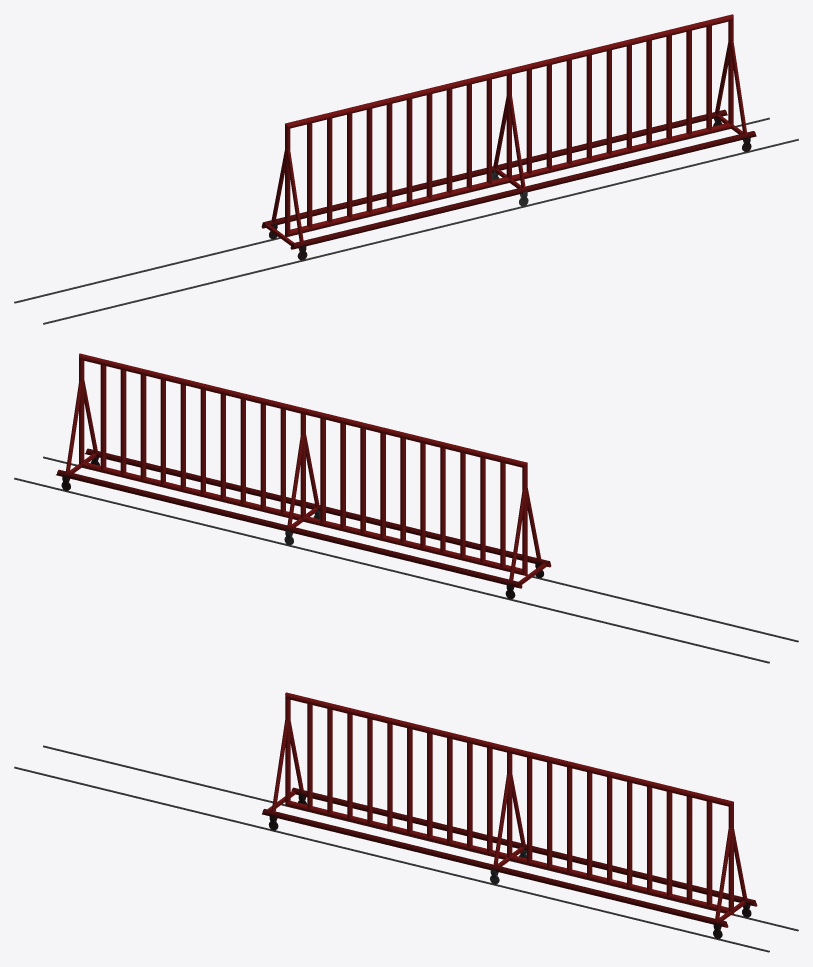
The model's file is maingate.fbx.
The picture shows the model from 3 angles, top to bottom: view 1: azimuth 30°, elevation 25°; view 2: azimuth 150°, elevation 25°; view 3: azimuth 330°, elevation 25°; orthographic projection.
Visible parts, largest first — view 1: pCylinder26, pCylinder1, pCylinder2, pCylinder27, pCube15, pCube14, pCylinder7, pCylinder9, pCylinder8, pCylinder10, pCylinder11, pCylinder4 (+17 smaller); view 2: pCylinder27, pCylinder1, pCylinder2, pCylinder26, pCube14, pCube15, pCylinder22, pCylinder24, pCylinder23, pCylinder11, pCylinder20, pCylinder4 (+17 smaller); view 3: pCylinder26, pCylinder1, pCylinder2, pCylinder27, pCube15, pCube14, pCylinder24, pCylinder22, pCylinder23, pCylinder5, pCylinder7, pCylinder17 (+17 smaller).
Part boxes in pixels (bbox=[...]): pCylinder26: bbox=[290, 131, 756, 249]; pCylinder1: bbox=[285, 14, 733, 128]; pCylinder2: bbox=[286, 123, 731, 236]; pCylinder27: bbox=[261, 109, 727, 228]; pCube15: bbox=[43, 138, 798, 324]; pCube14: bbox=[14, 117, 769, 303]; pCylinder7: bbox=[366, 108, 372, 213]; pCylinder9: bbox=[406, 98, 412, 203]; pCylinder8: bbox=[386, 103, 392, 208]; pCylinder10: bbox=[426, 93, 432, 198]; pCylinder11: bbox=[446, 88, 452, 193]; pCylinder4: bbox=[307, 122, 312, 228]; pCylinder27: bbox=[56, 469, 522, 588]; pCylinder1: bbox=[79, 353, 527, 467]; pCylinder2: bbox=[81, 462, 525, 575]; pCylinder26: bbox=[85, 448, 551, 567]; pCube14: bbox=[14, 477, 769, 663]; pCube15: bbox=[43, 456, 798, 642]; pCylinder22: bbox=[140, 374, 146, 479]; pCylinder24: bbox=[100, 364, 106, 469]; pCylinder23: bbox=[120, 369, 126, 474]; pCylinder11: bbox=[360, 427, 365, 533]; pCylinder20: bbox=[180, 383, 185, 489]; pCylinder4: bbox=[500, 461, 505, 567]; pCylinder26: bbox=[262, 809, 728, 927]; pCylinder1: bbox=[285, 692, 733, 806]; pCylinder2: bbox=[285, 801, 732, 914]; pCylinder27: bbox=[291, 787, 757, 906]; pCube15: bbox=[14, 766, 769, 952]; pCube14: bbox=[43, 745, 798, 931]; pCylinder24: bbox=[706, 800, 712, 906]; pCylinder22: bbox=[666, 791, 672, 896]; pCylinder23: bbox=[686, 796, 692, 901]; pCylinder5: bbox=[327, 708, 332, 813]; pCylinder7: bbox=[367, 718, 372, 823]; pCylinder17: bbox=[567, 766, 572, 872].
Size of the model in its own units: 274 by 44.2 by 20.21.
